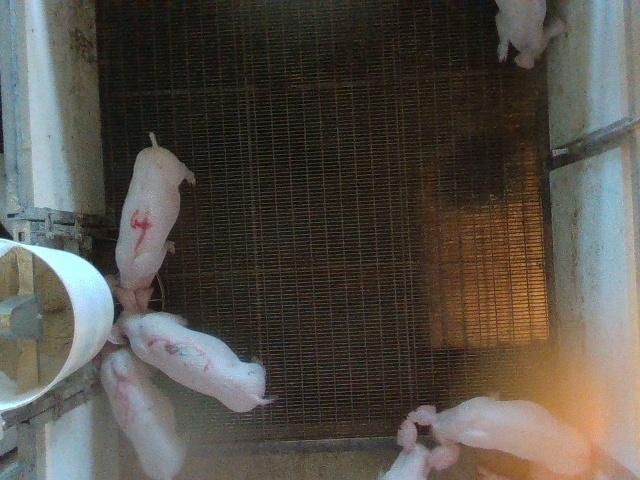pig-3: (112, 288, 269, 412)
pig-4: (116, 132, 195, 289)
pig-5: (101, 349, 186, 479)
